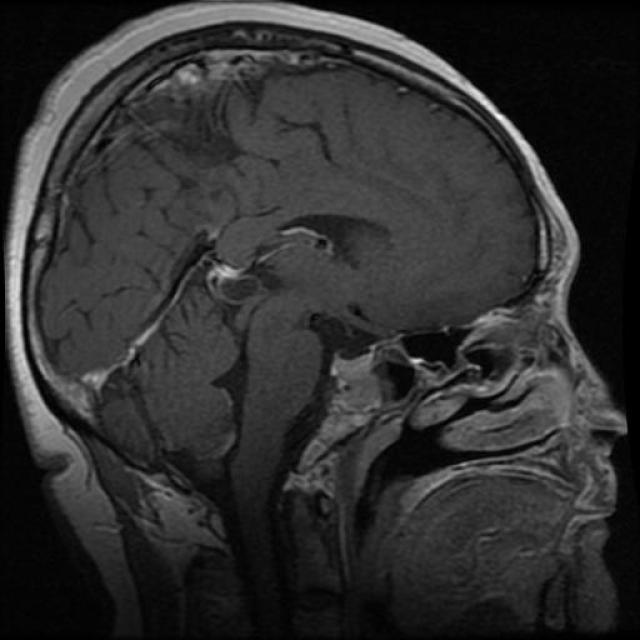pituitary: (328, 331, 440, 444)
